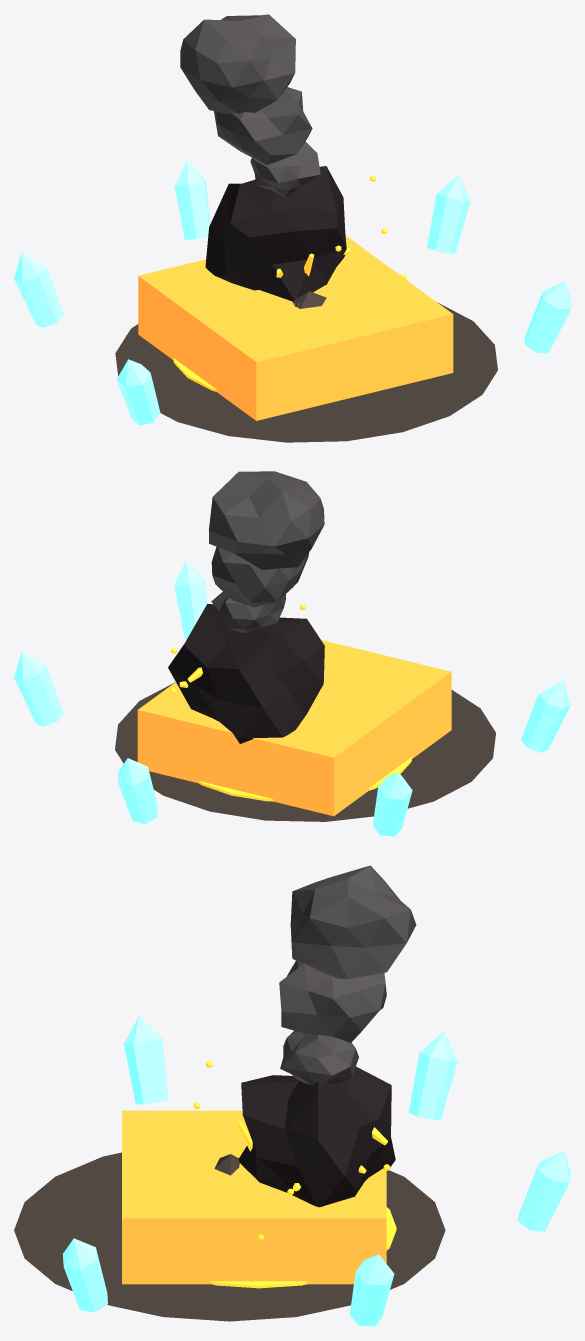
File: MeteorCraterFurnace_Roblox.fbx
The picture shows the model from 3 angles, top to bottom: view 1: azimuth 30°, elevation 25°; view 2: azimuth 150°, elevation 25°; view 3: azimuth 270°, elevation 25°; orthographic projection. The views are drawn at different scales.
Visible parts, largest first — view 1: BurnZone, CraterRock, Smoke, MeteorCrust, SpaceCrystal, MeteorCore; view 2: BurnZone, MeteorCrust, Smoke, CraterRock, SpaceCrystal, MeteorCore; view 3: BurnZone, CraterRock, Smoke, MeteorCrust, SpaceCrystal, MeteorCore.
Part boxes in pixels (left/top/right/bottom): BurnZone: left=138, top=236, right=453, bottom=420; CraterRock: left=115, top=291, right=497, bottom=442; Smoke: left=180, top=14, right=320, bottom=197; MeteorCrust: left=205, top=166, right=346, bottom=301; SpaceCrystal: left=14, top=160, right=570, bottom=425; MeteorCore: left=173, top=175, right=406, bottom=391; BurnZone: left=137, top=640, right=451, bottom=816; MeteorCrust: left=168, top=603, right=324, bottom=743; Smoke: left=209, top=471, right=324, bottom=633; CraterRock: left=115, top=682, right=495, bottom=821; SpaceCrystal: left=14, top=560, right=570, bottom=836; MeteorCore: left=170, top=604, right=411, bottom=801; BurnZone: left=122, top=1110, right=386, bottom=1284; CraterRock: left=14, top=1152, right=445, bottom=1321; Smoke: left=279, top=865, right=416, bottom=1084; MeteorCrust: left=238, top=1066, right=395, bottom=1207; SpaceCrystal: left=63, top=1015, right=570, bottom=1326; MeteorCore: left=193, top=1061, right=396, bottom=1288.
Bounding box in the file's own units: 1186 × 836 × 1136.
